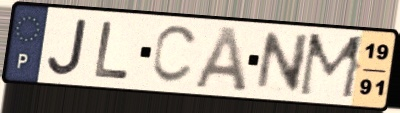A: (191, 25, 250, 94)
C: (149, 23, 201, 87)
J: (46, 16, 91, 78)
L: (92, 19, 133, 81)
M: (295, 31, 369, 102)
N: (252, 31, 312, 95)
